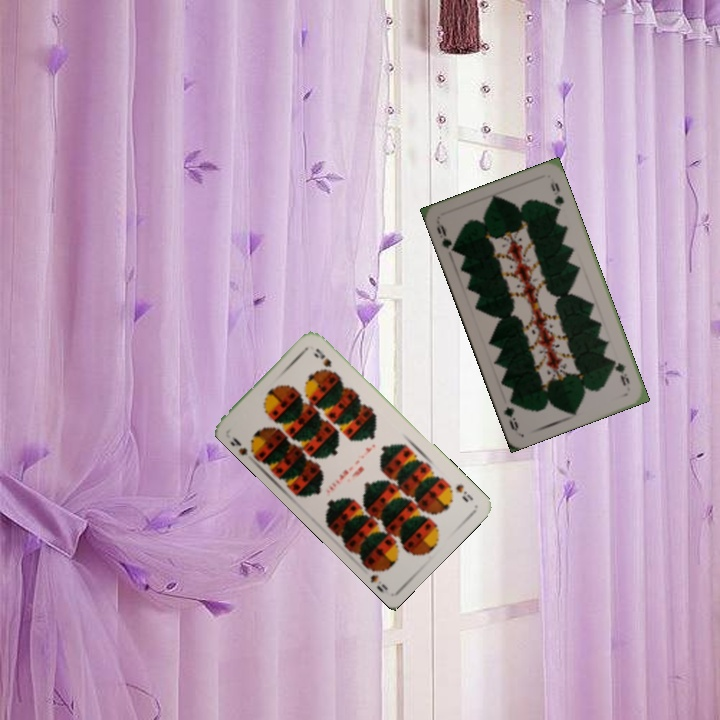G9: (433, 218, 459, 255), (608, 354, 632, 388)
S9: (227, 432, 260, 460), (452, 480, 476, 505)
